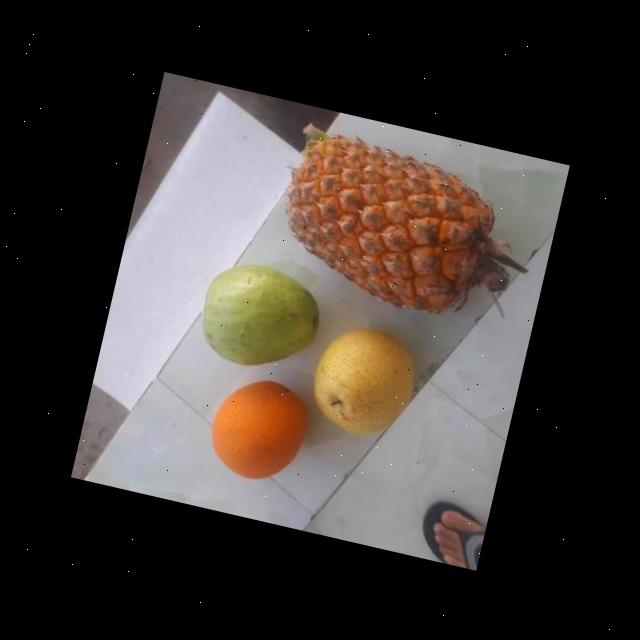guava: (190, 251, 329, 381)
orange: (203, 366, 314, 489)
pear: (302, 310, 425, 443)
pineapple: (274, 120, 512, 320)
